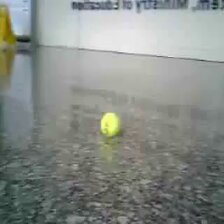tennis: (100, 112, 120, 137)
